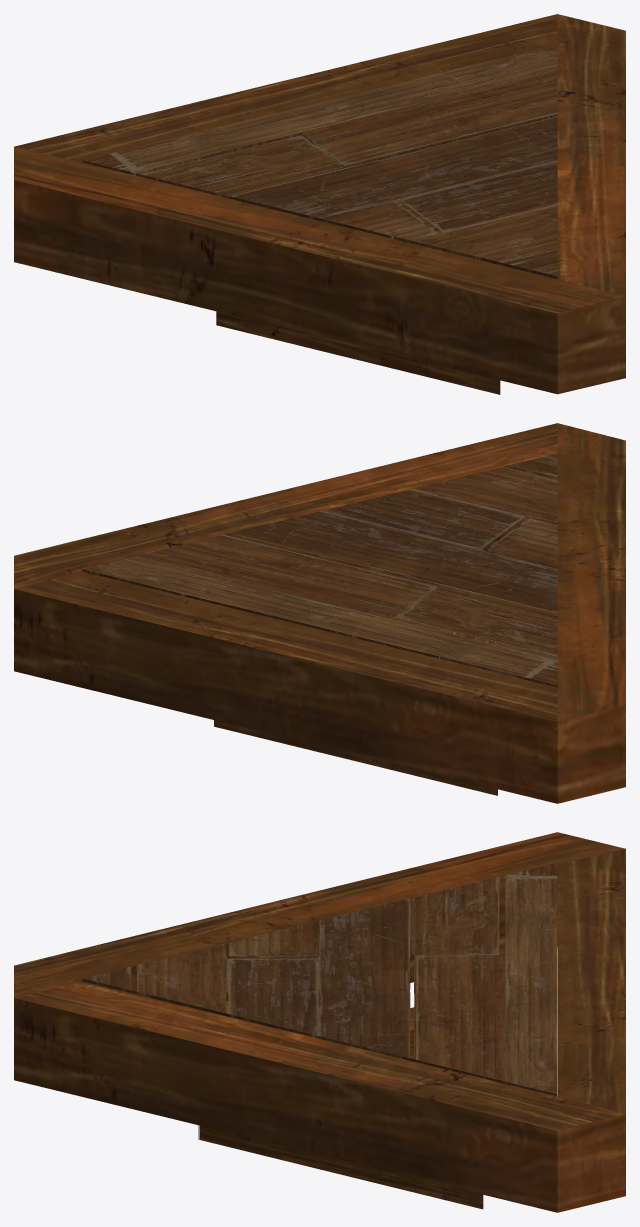
3 renders of one model, top to bottom at view 1: azimuth 30°, elevation 25°; view 2: azimuth 150°, elevation 25°; view 3: azimuth 270°, elevation 25°, orthographic.
Visible parts, largest first — view 1: SM_BB_T2_Floor_Trangle_Med_LOD0; view 2: SM_BB_T2_Floor_Trangle_Med_LOD0; view 3: SM_BB_T2_Floor_Trangle_Med_LOD0.
Part boxes in pixels (bbox=[...]): SM_BB_T2_Floor_Trangle_Med_LOD0: bbox=[14, 14, 625, 394]; SM_BB_T2_Floor_Trangle_Med_LOD0: bbox=[14, 423, 625, 803]; SM_BB_T2_Floor_Trangle_Med_LOD0: bbox=[14, 832, 625, 1212].
Size of the model in its own units: 1.93 by 0.4866 by 1.67.
2 materials, 2 textured.
